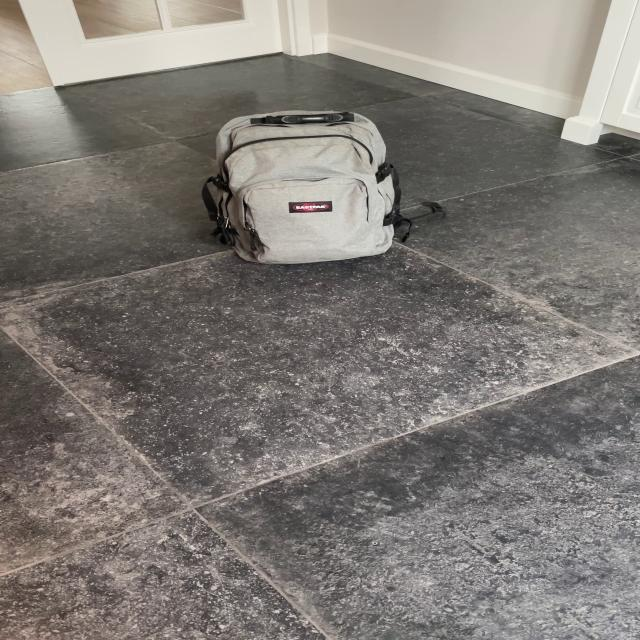backpack: (194, 103, 410, 265)
